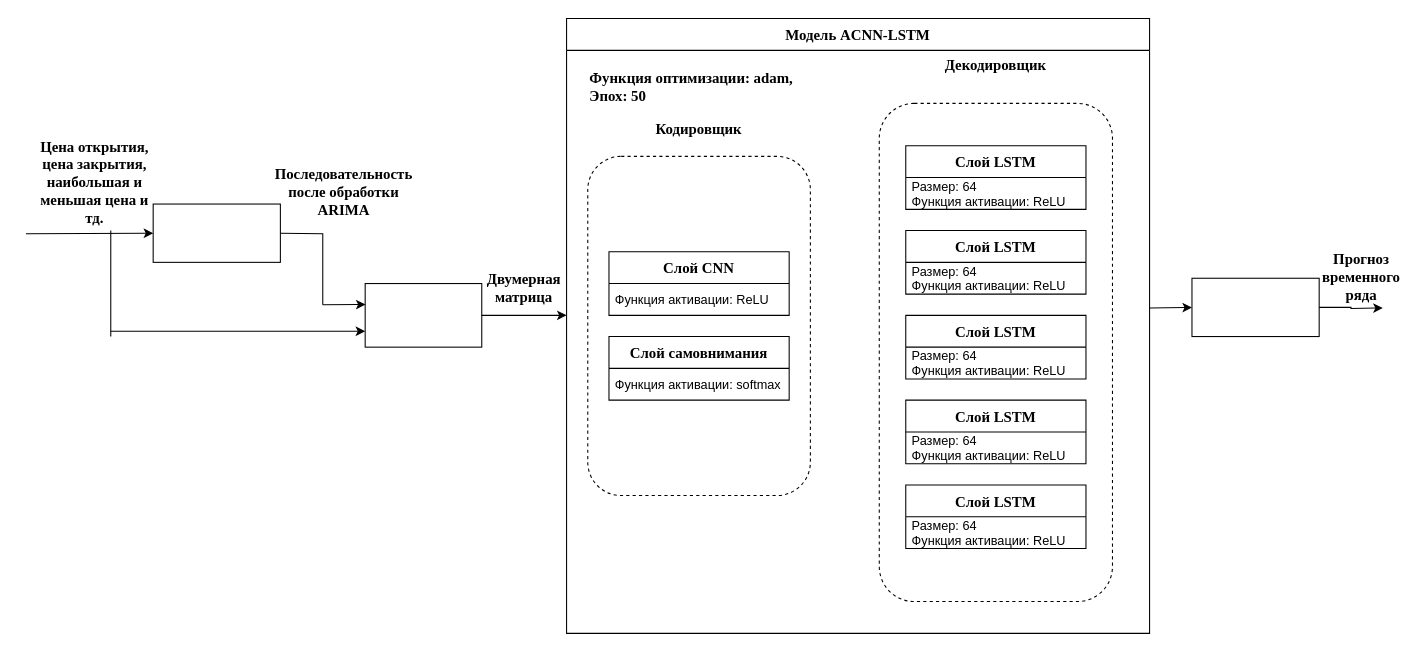
Some shapes in this 1423 by 652 pixel diagram are drawn without their labels. The shapes that lost their labels are listed below. From the top down, each one's centre as x and y in pixels, then its label:
At (216,232): "Модель ARIMA".
At (423,314): "Нормализация".
At (1255,307): "XGBoost".
